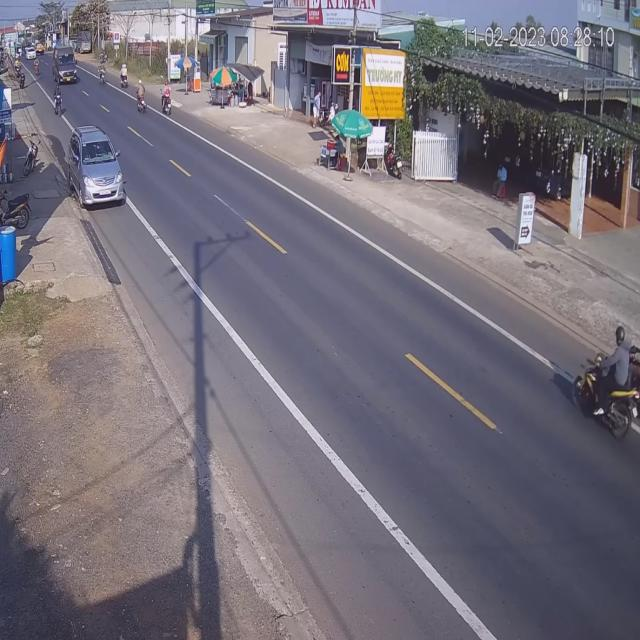bus: (54, 46, 79, 85)
car: (68, 126, 126, 209)
motorbike: (575, 328, 638, 444), (161, 85, 174, 120), (138, 82, 148, 114), (54, 86, 64, 118), (119, 65, 127, 90), (99, 62, 107, 84)
